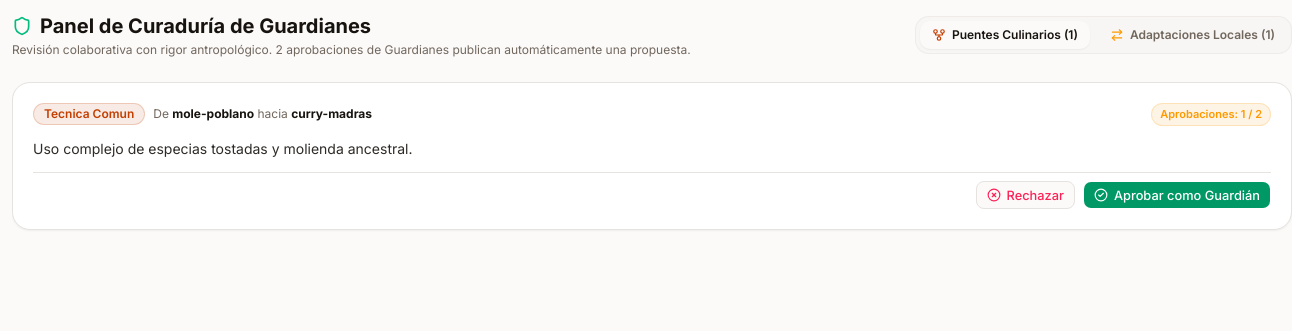
Test: PanelCuraduria › permite al guardián aprobar un puente culinario
Click the button "Aprobar como Guardián": {"x": 1177, "y": 195} [1083,181,1271,209]
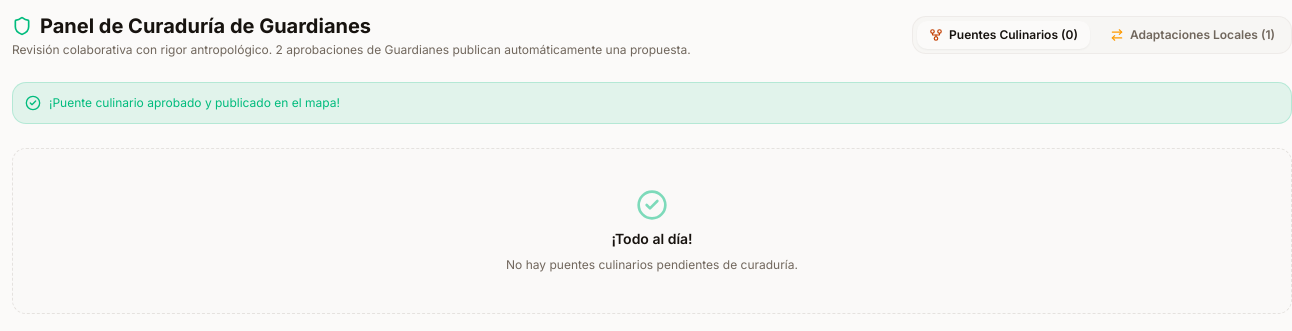
Check: the text "¡Puente culinario aprobado y publicado en el mapa!" is shown, box [12,82,1291,124]
